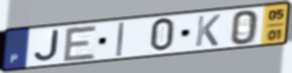0: (229, 8, 260, 46), (148, 16, 178, 55)
E: (62, 24, 100, 63)
I: (115, 21, 127, 58)
J: (33, 28, 61, 64)
K: (193, 13, 223, 48)
